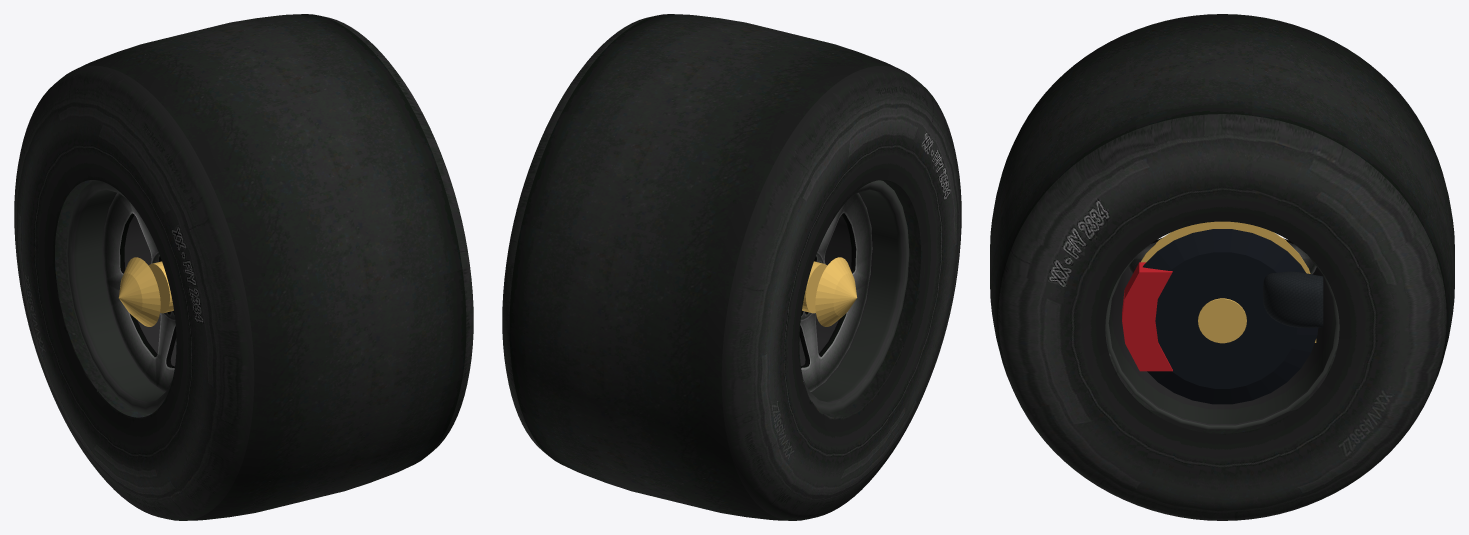
The model's file is f1_2030_v10_wheel_RL.glb.
3 views of the same model, side by side, from view 1: azimuth 30°, elevation 25°; view 2: azimuth 150°, elevation 25°; view 3: azimuth 270°, elevation 25° (orthographic). The views are drawn at different scales.
Visible parts, largest first — view 1: GEO_WHEEL_REAR_LEFT_TIRE, GEO_WHEEL_REAR_LEFT_RIM_AND_SPOKES, GEO_WHEEL_REAR_LEFT_CENTER_LOCK_NUT, GEO_WHEEL_REAR_LEFT_HUB; view 2: GEO_WHEEL_REAR_LEFT_TIRE, GEO_WHEEL_REAR_LEFT_RIM_AND_SPOKES, GEO_WHEEL_REAR_LEFT_CENTER_LOCK_NUT, GEO_WHEEL_REAR_LEFT_HUB; view 3: GEO_WHEEL_REAR_LEFT_TIRE, GEO_BRAKE_REAR_LEFT_DISC, GEO_WHEEL_REAR_LEFT_RIM_AND_SPOKES, GEO_BRAKE_REAR_LEFT_CALIPER, GEO_BRAKE_REAR_LEFT_DUCT, GEO_WHEEL_REAR_LEFT_HUB, GEO_BRAKE_REAR_LEFT_INBOARD_DUCT_COVER.
Part boxes in pixels (bbox=[...]): GEO_WHEEL_REAR_LEFT_TIRE: bbox=[14, 14, 473, 520]; GEO_WHEEL_REAR_LEFT_RIM_AND_SPOKES: bbox=[66, 180, 176, 413]; GEO_WHEEL_REAR_LEFT_CENTER_LOCK_NUT: bbox=[118, 257, 160, 326]; GEO_WHEEL_REAR_LEFT_HUB: bbox=[148, 261, 173, 313]; GEO_WHEEL_REAR_LEFT_TIRE: bbox=[502, 14, 961, 520]; GEO_WHEEL_REAR_LEFT_RIM_AND_SPOKES: bbox=[799, 180, 909, 413]; GEO_WHEEL_REAR_LEFT_CENTER_LOCK_NUT: bbox=[815, 257, 857, 326]; GEO_WHEEL_REAR_LEFT_HUB: bbox=[802, 261, 827, 313]; GEO_WHEEL_REAR_LEFT_TIRE: bbox=[990, 14, 1454, 520]; GEO_BRAKE_REAR_LEFT_DISC: bbox=[1143, 229, 1318, 404]; GEO_WHEEL_REAR_LEFT_RIM_AND_SPOKES: bbox=[1105, 238, 1339, 429]; GEO_BRAKE_REAR_LEFT_CALIPER: bbox=[1122, 262, 1172, 371]; GEO_BRAKE_REAR_LEFT_DUCT: bbox=[1263, 271, 1323, 327]; GEO_WHEEL_REAR_LEFT_HUB: bbox=[1198, 298, 1246, 343]; GEO_BRAKE_REAR_LEFT_INBOARD_DUCT_COVER: bbox=[1140, 221, 1316, 342].
Bounding box in the file's own units: 0.4699 × 0.67 × 0.67.
7 materials, 4 textured.
